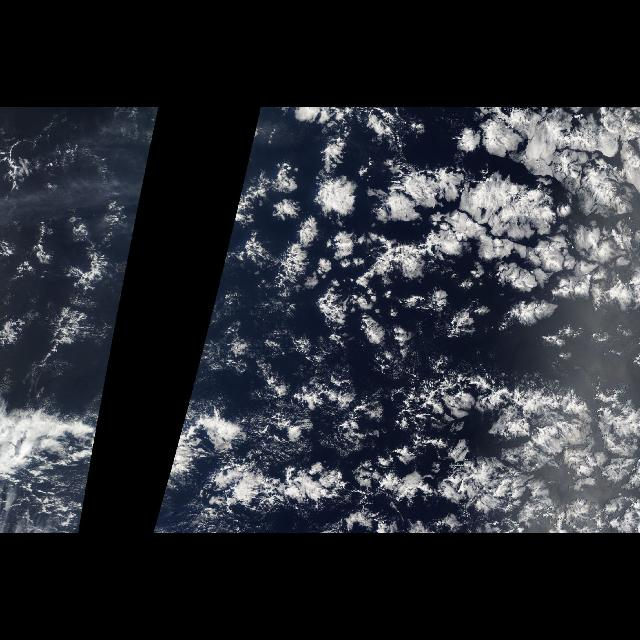Flower: (185, 108, 639, 532)
